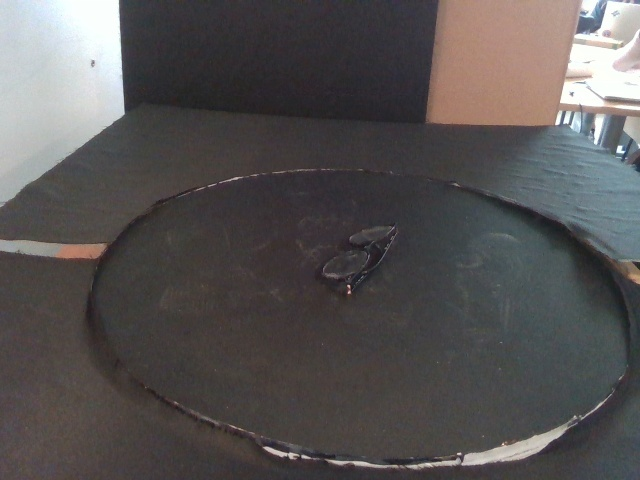glasses: (320, 222, 399, 299)
